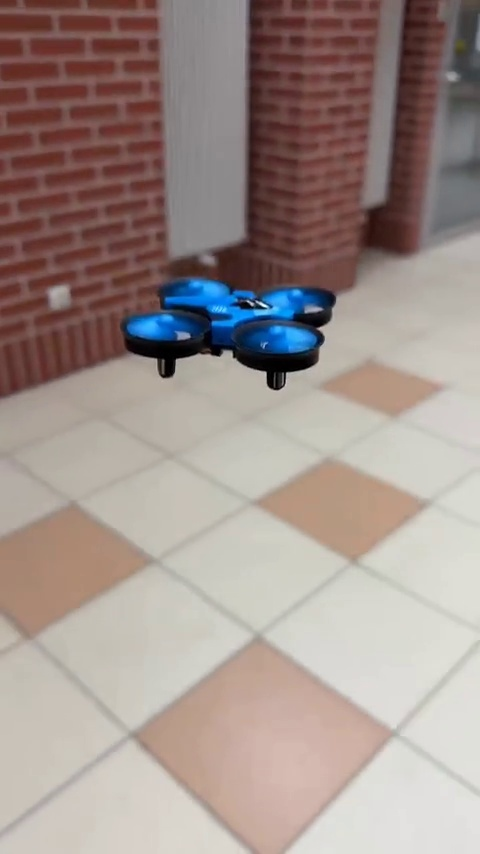drone: (116, 276, 336, 393)
